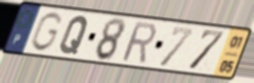7: (187, 28, 226, 72), (160, 25, 196, 69)
8: (94, 15, 127, 63)
G: (28, 11, 64, 54)
Q: (57, 14, 90, 56)
R: (119, 21, 158, 66)
